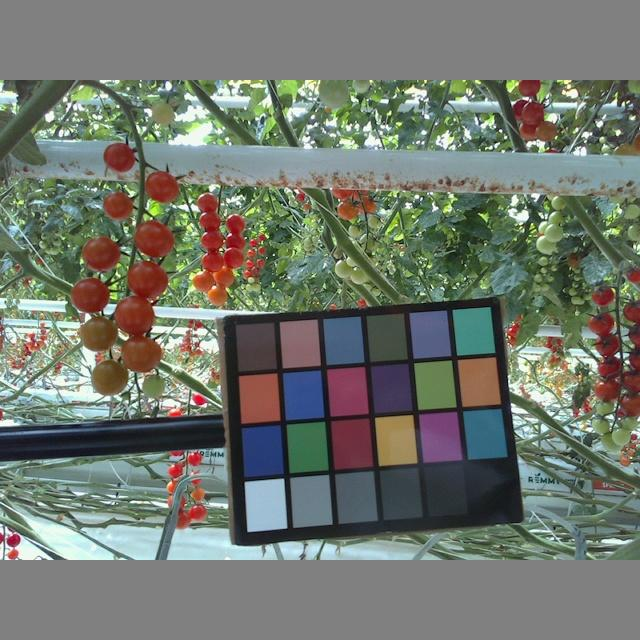green: (319, 81, 352, 109), (139, 372, 168, 399), (150, 101, 178, 124), (535, 234, 556, 254), (545, 223, 565, 242), (334, 257, 353, 277)
pink: (114, 294, 156, 336), (126, 261, 169, 300), (133, 219, 175, 258), (91, 358, 132, 395), (82, 237, 121, 273), (70, 277, 110, 311), (80, 316, 118, 350), (145, 171, 178, 202), (104, 141, 136, 171), (101, 193, 134, 220), (197, 191, 221, 215), (335, 198, 359, 222), (522, 99, 545, 123), (199, 229, 223, 250), (199, 250, 222, 271), (197, 211, 221, 231), (536, 119, 557, 141), (223, 231, 243, 254), (222, 245, 242, 268), (213, 267, 232, 290), (225, 212, 245, 233), (193, 269, 212, 290), (208, 282, 225, 305), (518, 81, 544, 96)
red: (592, 375, 619, 402), (593, 335, 623, 358), (588, 310, 615, 335), (597, 354, 624, 379), (590, 284, 615, 306), (622, 392, 640, 418), (594, 399, 615, 417), (612, 425, 630, 444), (591, 415, 609, 433)
